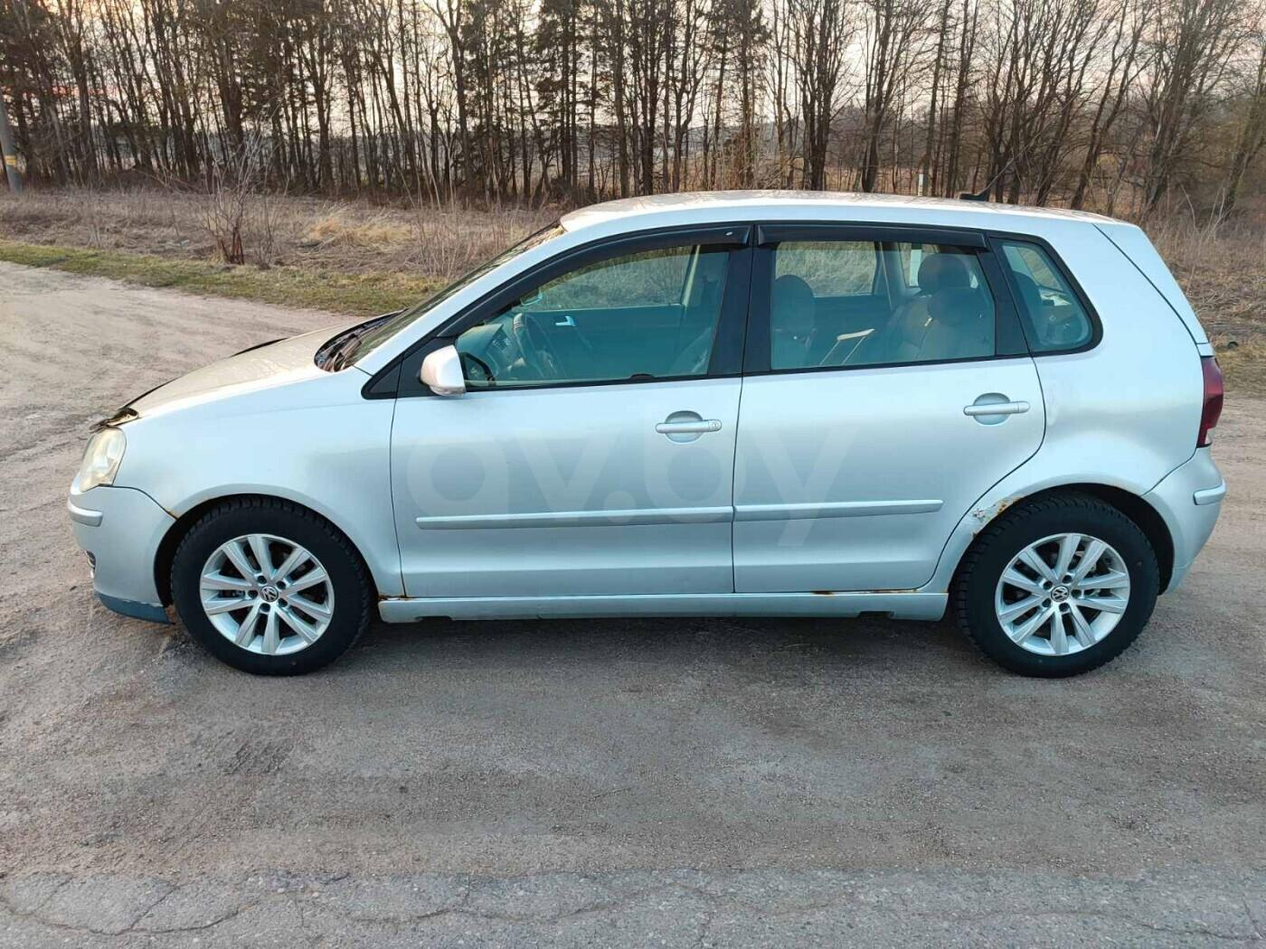Polo_2005-2009: (70, 191, 1221, 686)
